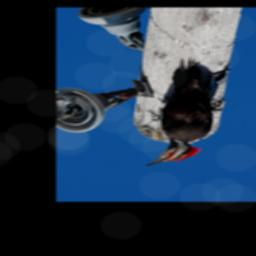Woodpecker: (139, 58, 230, 168)
